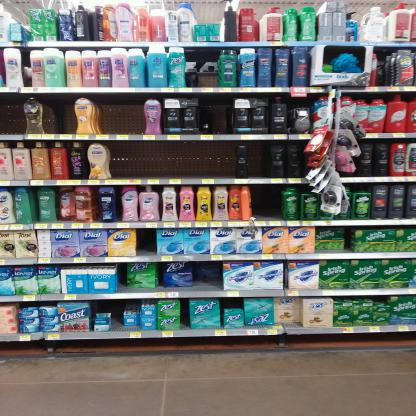Void: (112, 144, 230, 177), (97, 98, 145, 134), (41, 96, 73, 133), (199, 96, 229, 133), (253, 186, 282, 220), (3, 95, 21, 134), (199, 264, 220, 288), (187, 47, 218, 62), (251, 142, 265, 174), (138, 229, 155, 252), (219, 298, 244, 308), (114, 302, 124, 326)
